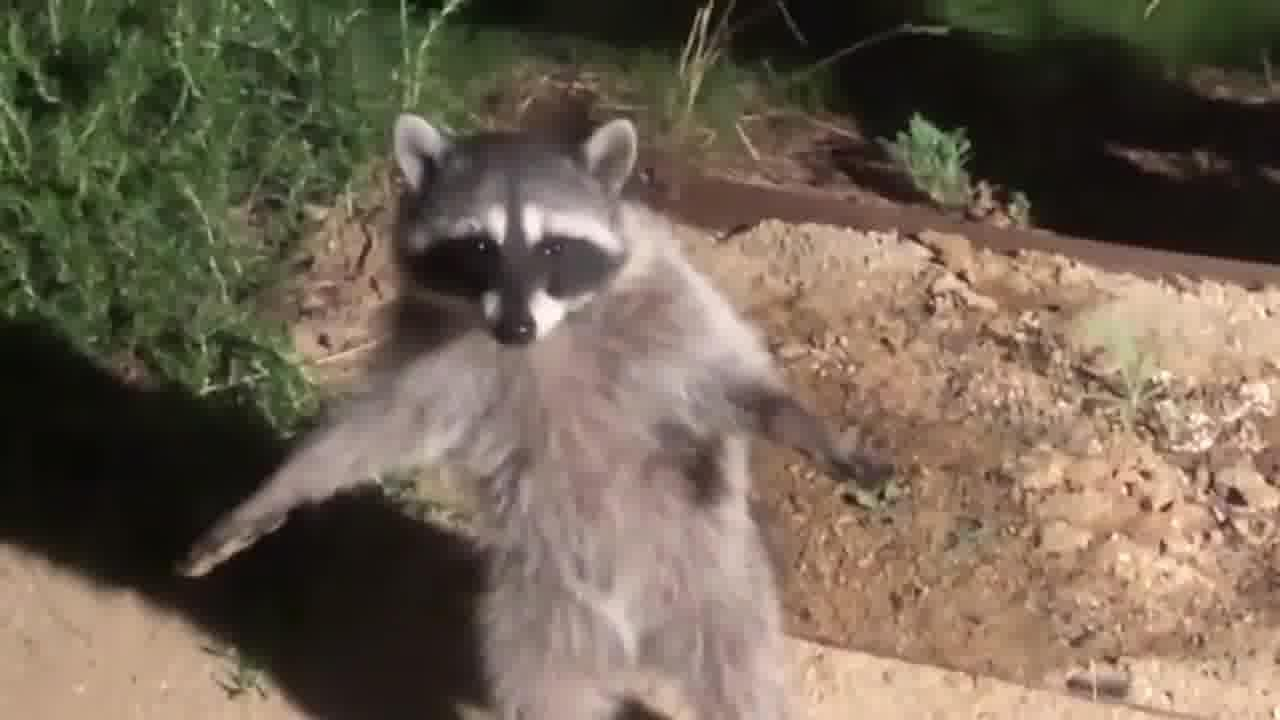raccoon: (136, 103, 917, 720)
